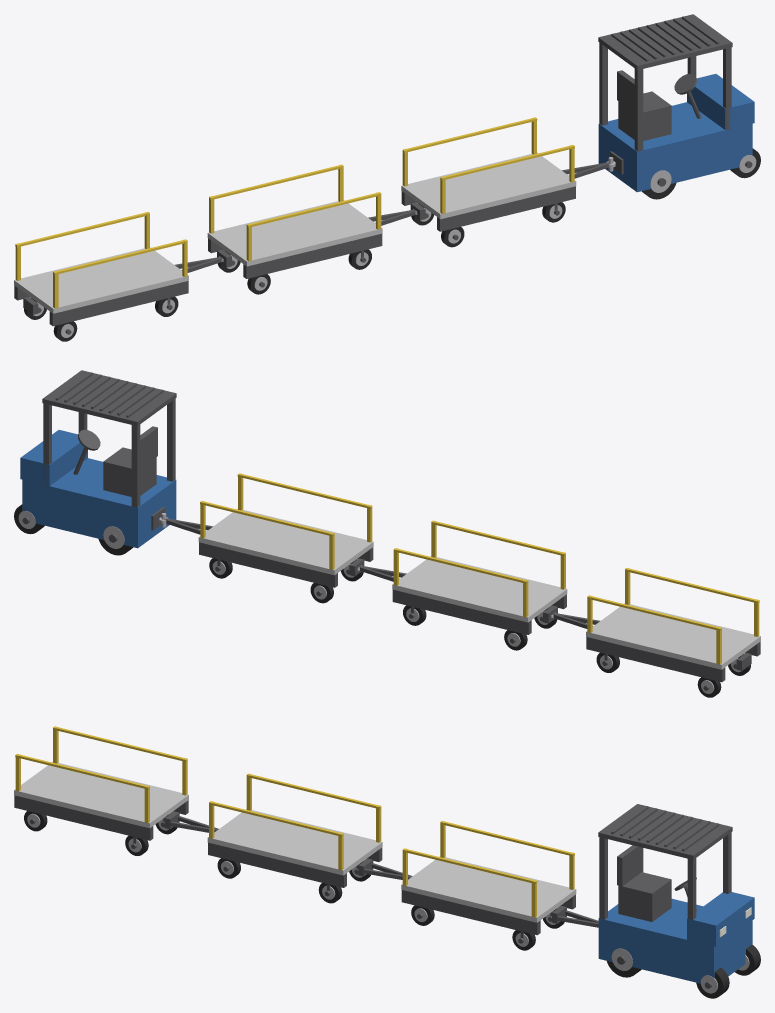
File: SM_TuggerTrain.fbx
3 views of the same model, one above another, from view 1: azimuth 30°, elevation 25°; view 2: azimuth 150°, elevation 25°; view 3: azimuth 330°, elevation 25° (orthographic).
Parts seen in each view (by area): view 1: TT_Tractor, TT_Cart3_Frame, TT_Cart2_Frame, TT_Cart1_Frame, TT_Tractor_Wheel_RR; view 2: TT_Tractor, TT_Cart3_Frame, TT_Cart2_Frame, TT_Cart1_Frame, TT_Tractor_Wheel_RL; view 3: TT_Tractor, TT_Cart1_Frame, TT_Cart3_Frame, TT_Cart2_Frame, TT_Tractor_Wheel_FR, TT_Tractor_Wheel_RR.
Part boxes in pixels (bbox=[...]): TT_Tractor: bbox=[598, 14, 754, 192]; TT_Cart3_Frame: bbox=[14, 212, 188, 326]; TT_Cart2_Frame: bbox=[207, 164, 382, 278]; TT_Cart1_Frame: bbox=[401, 117, 576, 231]; TT_Tractor_Wheel_RR: bbox=[642, 170, 676, 199]; TT_Tractor: bbox=[20, 370, 176, 548]; TT_Cart3_Frame: bbox=[586, 568, 760, 682]; TT_Cart2_Frame: bbox=[392, 520, 567, 634]; TT_Cart1_Frame: bbox=[198, 473, 373, 587]; TT_Tractor_Wheel_RL: bbox=[98, 526, 132, 555]; TT_Tractor: bbox=[598, 804, 754, 983]; TT_Cart1_Frame: bbox=[401, 821, 576, 935]; TT_Cart3_Frame: bbox=[14, 726, 188, 840]; TT_Cart2_Frame: bbox=[207, 773, 382, 887]; TT_Tractor_Wheel_FR: bbox=[696, 967, 729, 998]; TT_Tractor_Wheel_RR: bbox=[607, 948, 641, 977].
Size of the model in its own units: 1051 by 199 by 107.
